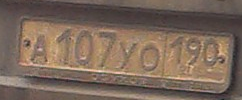character: (96, 27, 116, 71), (54, 24, 73, 67), (75, 25, 94, 67), (140, 39, 161, 77), (29, 33, 50, 63), (120, 38, 137, 73), (185, 35, 202, 69), (203, 36, 219, 70), (171, 32, 185, 67)
